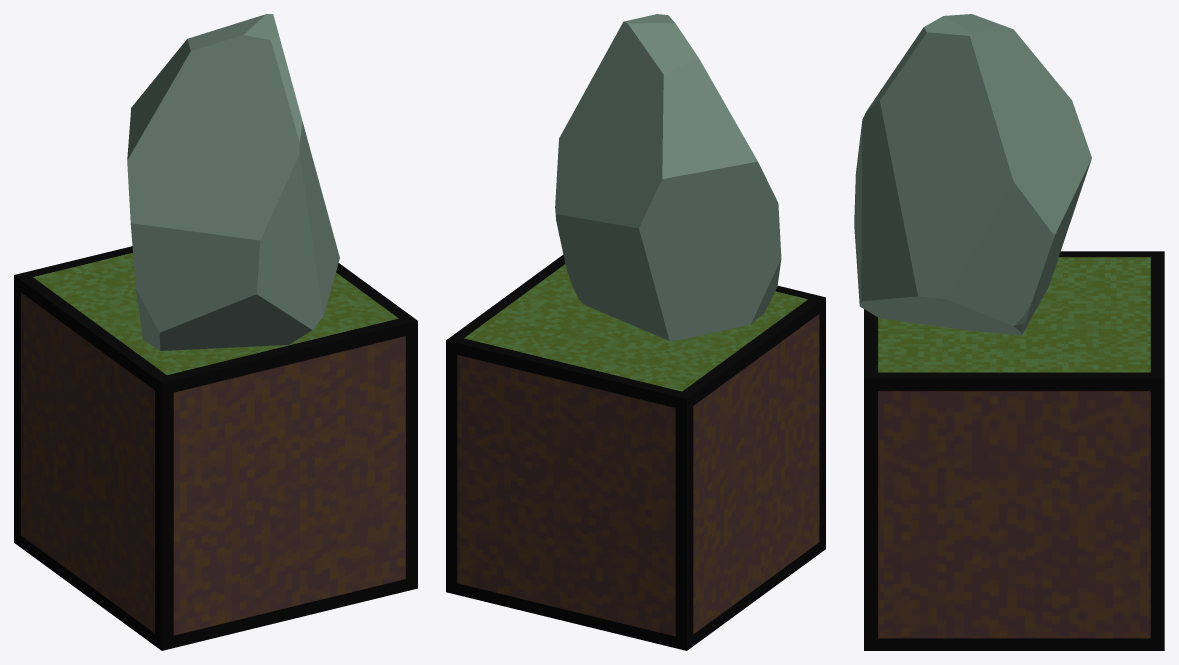
The model's file is RockMossy1.glb.
3 views of the same model, side by side, from view 1: azimuth 30°, elevation 25°; view 2: azimuth 150°, elevation 25°; view 3: azimuth 270°, elevation 25° (orthographic). The views are drawn at different scales.
Visible parts, largest first — view 1: DarkGrass.Baked, Sphere.001; view 2: DarkGrass.Baked, Sphere.001; view 3: DarkGrass.Baked, Sphere.001.
Boxes of the visible parts, x1=… form: DarkGrass.Baked: x1=14, y1=246, x2=417, y2=650; Sphere.001: x1=127, y1=14, x2=339, y2=350; DarkGrass.Baked: x1=446, y1=255, x2=825, y2=650; Sphere.001: x1=555, y1=14, x2=781, y2=340; DarkGrass.Baked: x1=864, y1=251, x2=1164, y2=650; Sphere.001: x1=854, y1=14, x2=1091, y2=335.
Bounding box in the file's own units: 0.98 × 2.05 × 1.01.
Materials: 2 (1 with a texture image).
